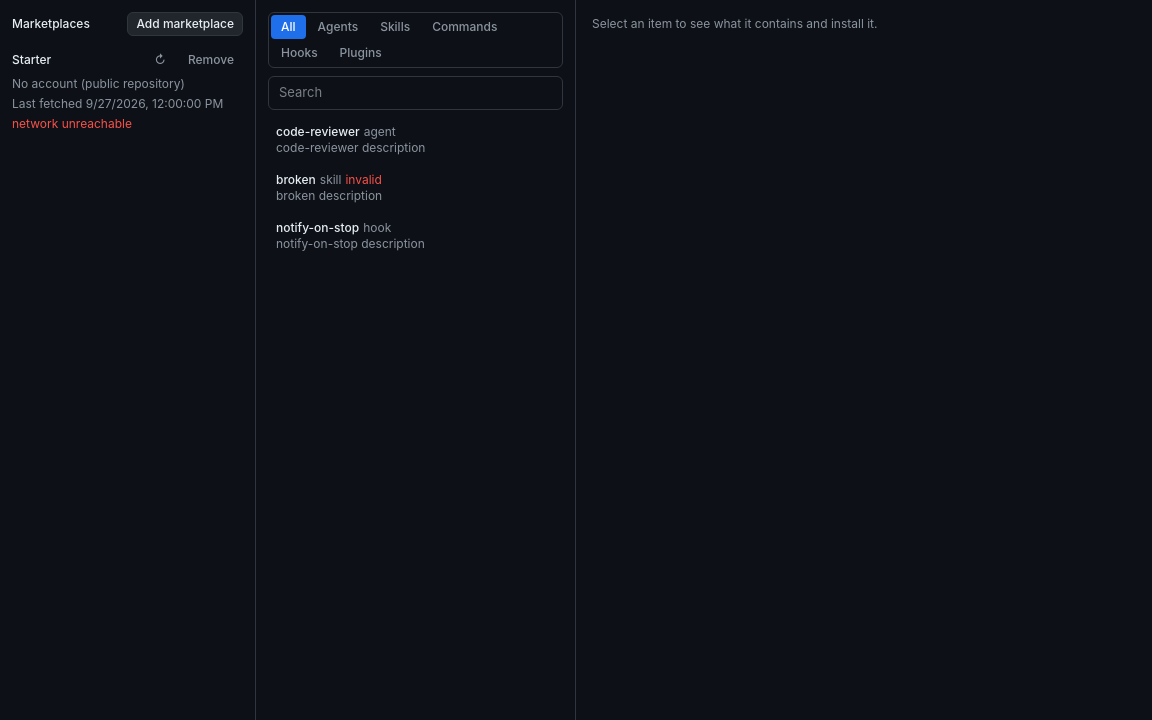
it: BrowsePane › shows why an item is invalid
Click the button "broken" at point(296, 179), box top-left (268, 166), bottom-right (563, 210)
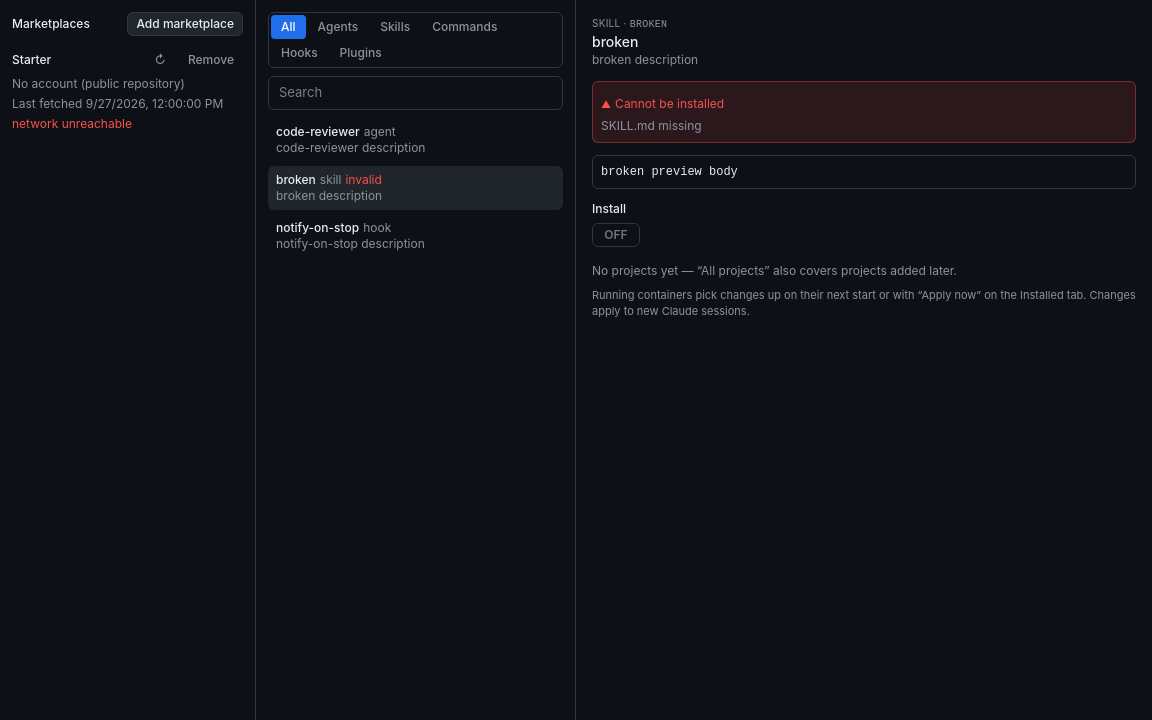
Check: the text "SKILL.md missing" is shown, box top-left (601, 118), bottom-right (702, 132)
